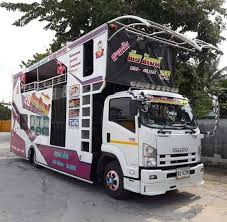truck: (8, 19, 205, 200)
